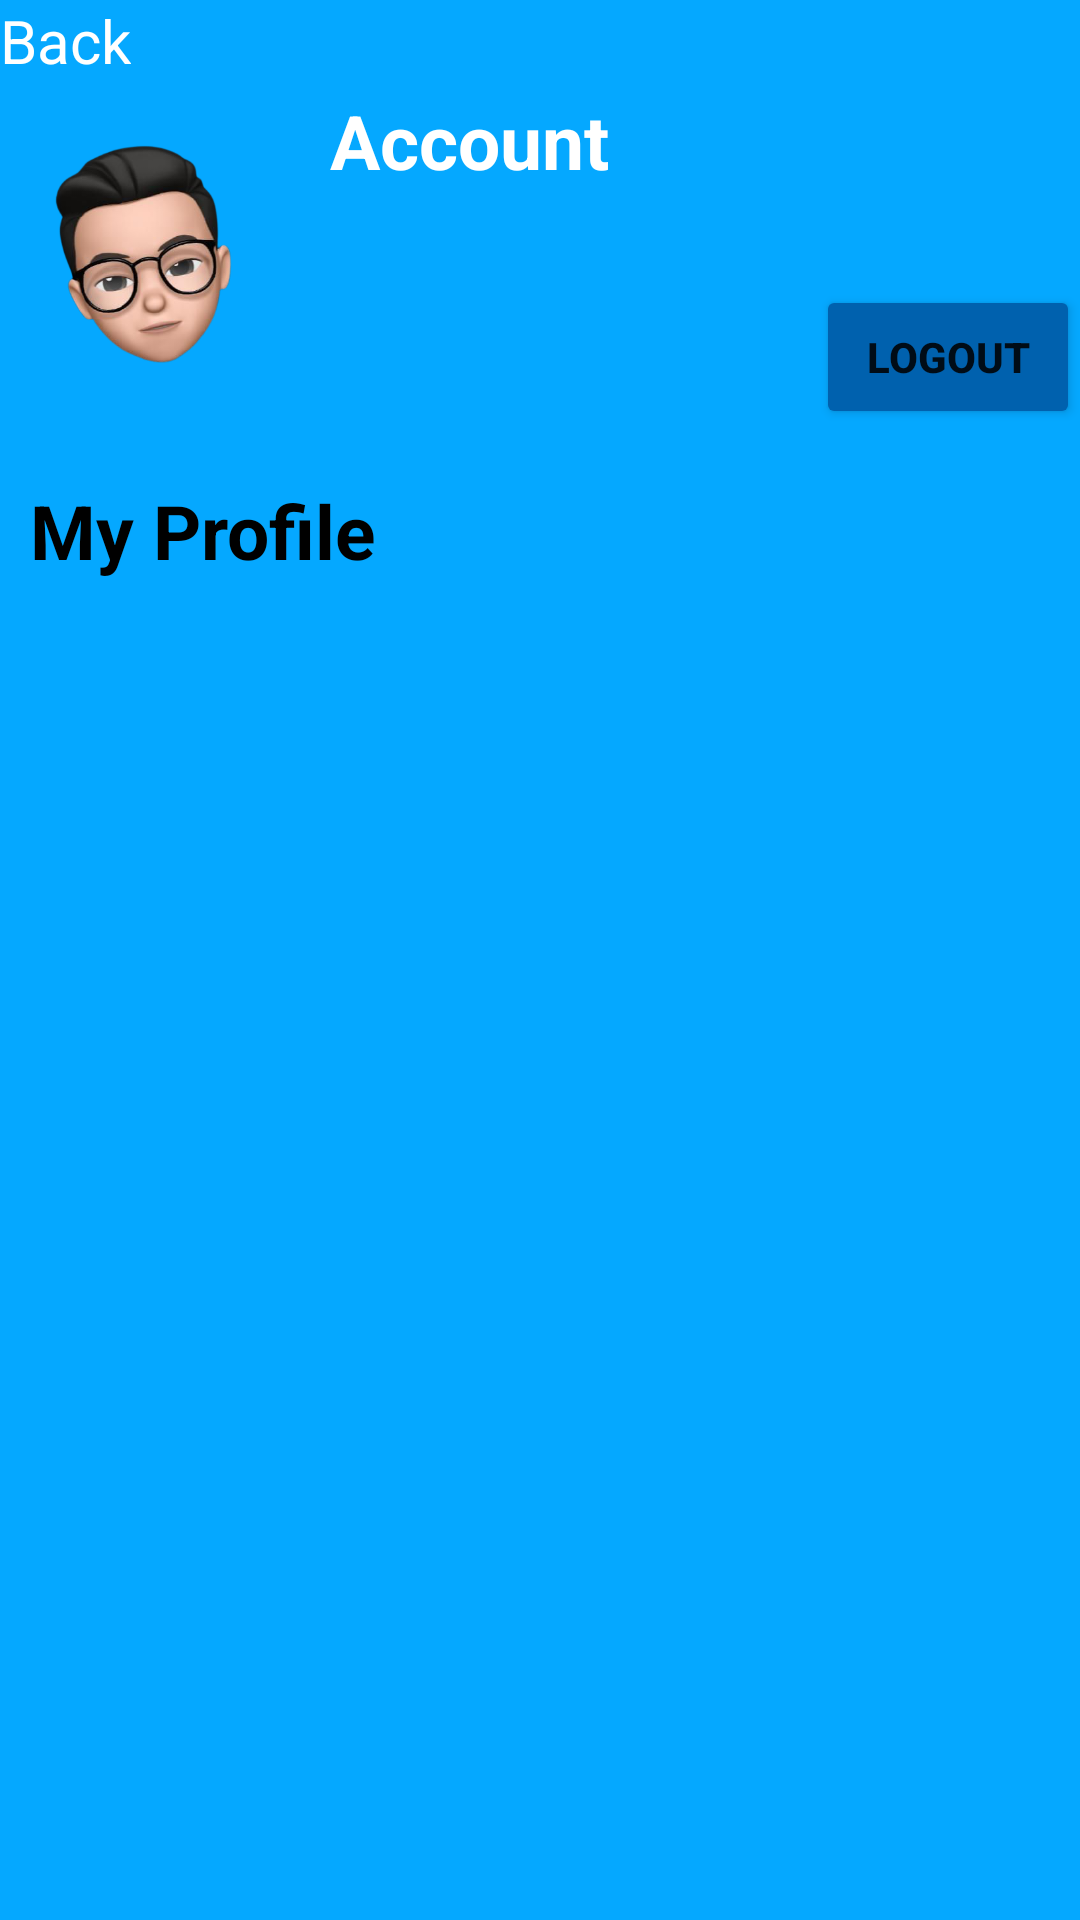

Point at icon controls on the screen. Image size 1080px x 1920px, points as (x=x, y=y).
faceimage: (x=143, y=254)
